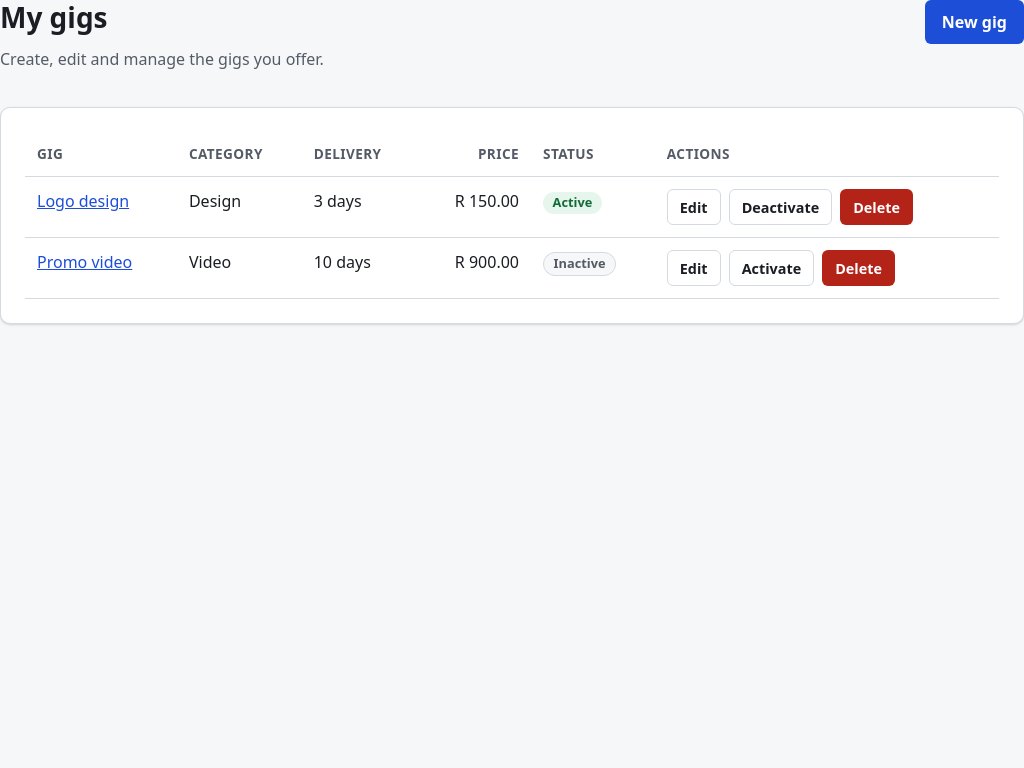
My gigs › shows the server's message when the gig was deleted
Click the button "Delete" in the row of "Logo design".
click(876, 207)  # box x1=840 y1=189 x2=913 y2=225
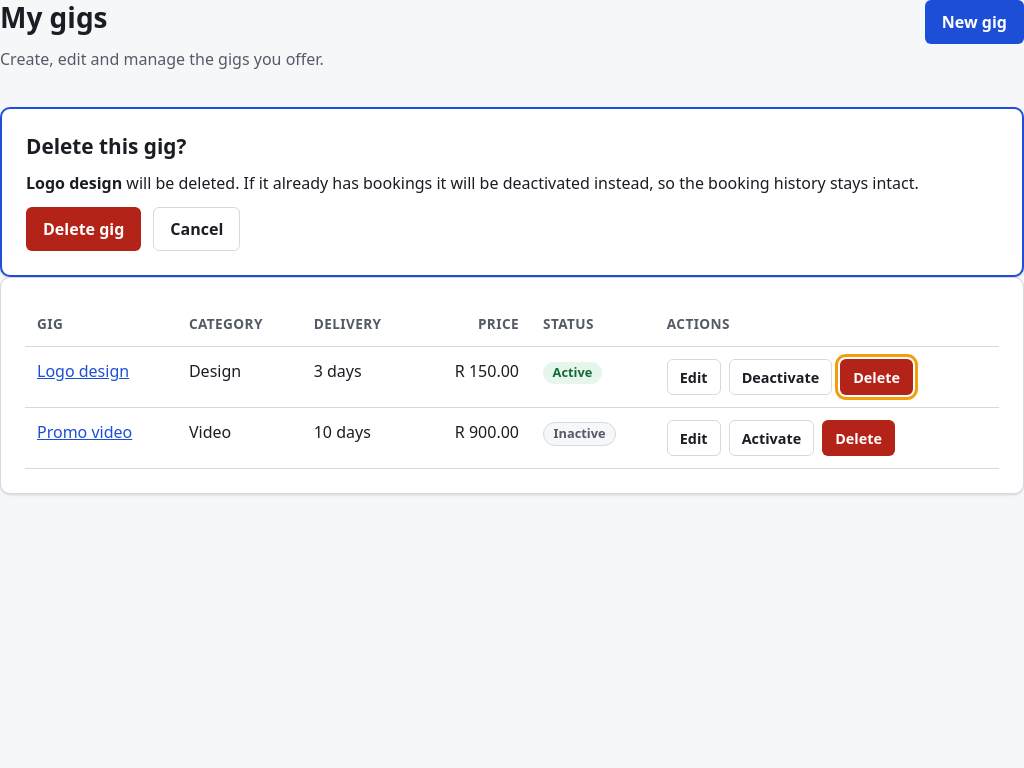
Click the button "Delete gig".
click(84, 229)  # box x1=26 y1=207 x2=141 y2=251
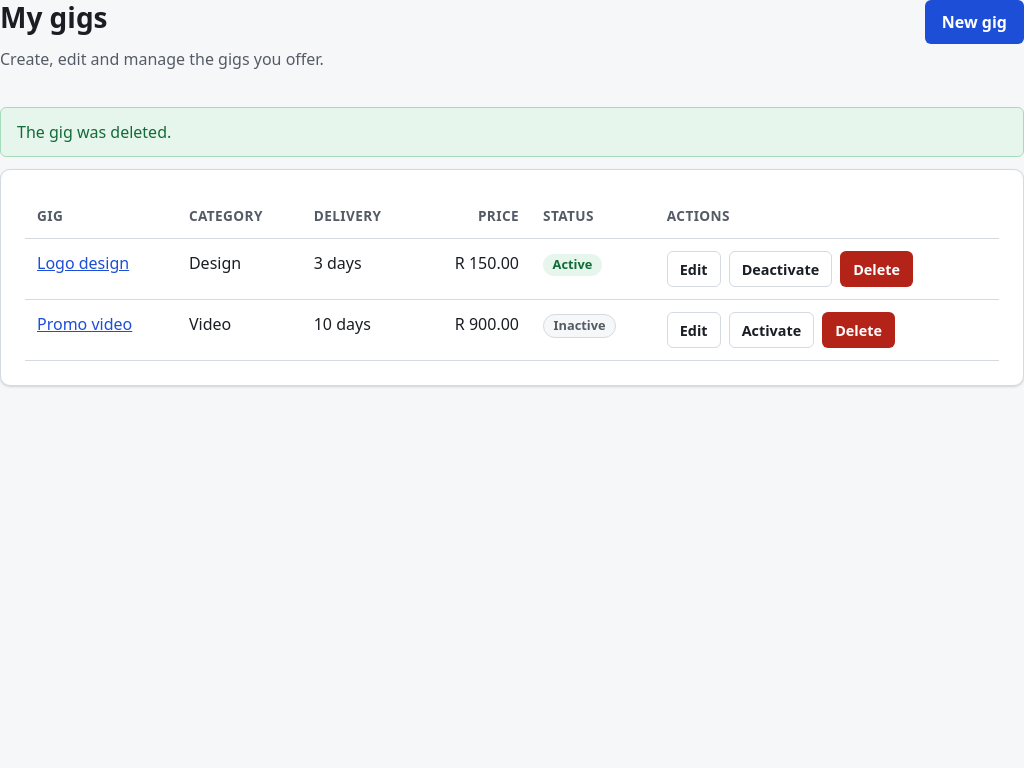
Result: the text "The gig was deleted." is shown at x1=0 y1=107 x2=1023 y2=157
